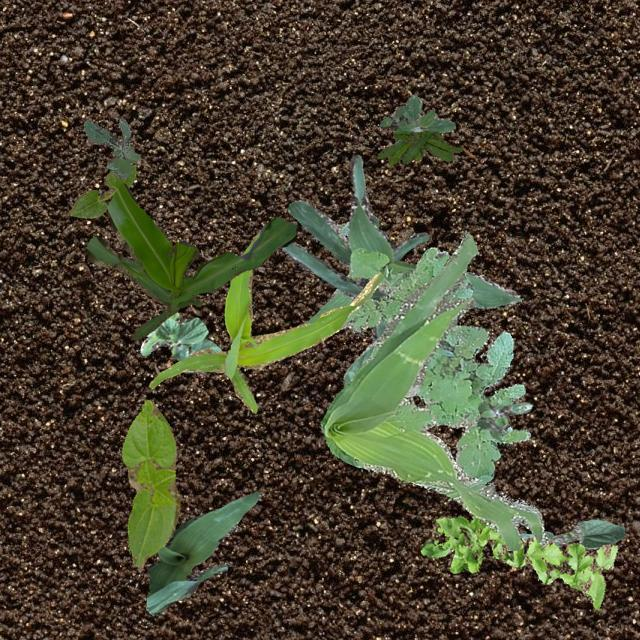crop: (278, 154, 520, 342), (148, 232, 382, 412), (85, 182, 296, 340), (144, 490, 260, 614), (302, 214, 428, 322), (120, 398, 180, 568), (140, 312, 220, 372), (68, 165, 136, 218), (518, 518, 624, 548), (342, 340, 376, 386)
weed: (319, 230, 546, 550), (340, 246, 530, 482), (419, 514, 616, 608), (378, 94, 454, 144), (82, 116, 140, 178), (376, 128, 462, 164), (476, 400, 530, 438)
